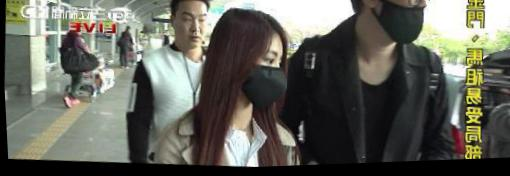NONE: (176, 10, 211, 49)
OK: (234, 50, 295, 110)
WRONG: (363, 1, 430, 52)
